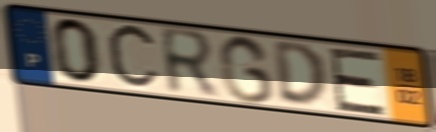0: (49, 17, 105, 85)
C: (104, 21, 162, 94)
D: (271, 41, 331, 111)
E: (326, 46, 388, 118)
G: (217, 33, 278, 106)
R: (157, 24, 221, 101)
